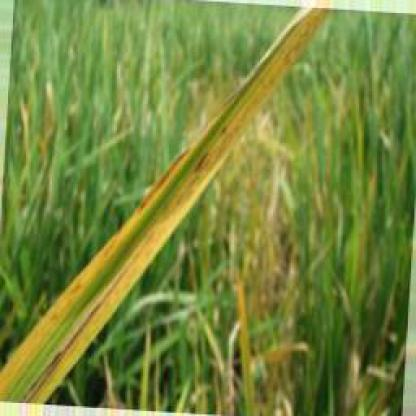Tungro: (3, 6, 331, 411)
